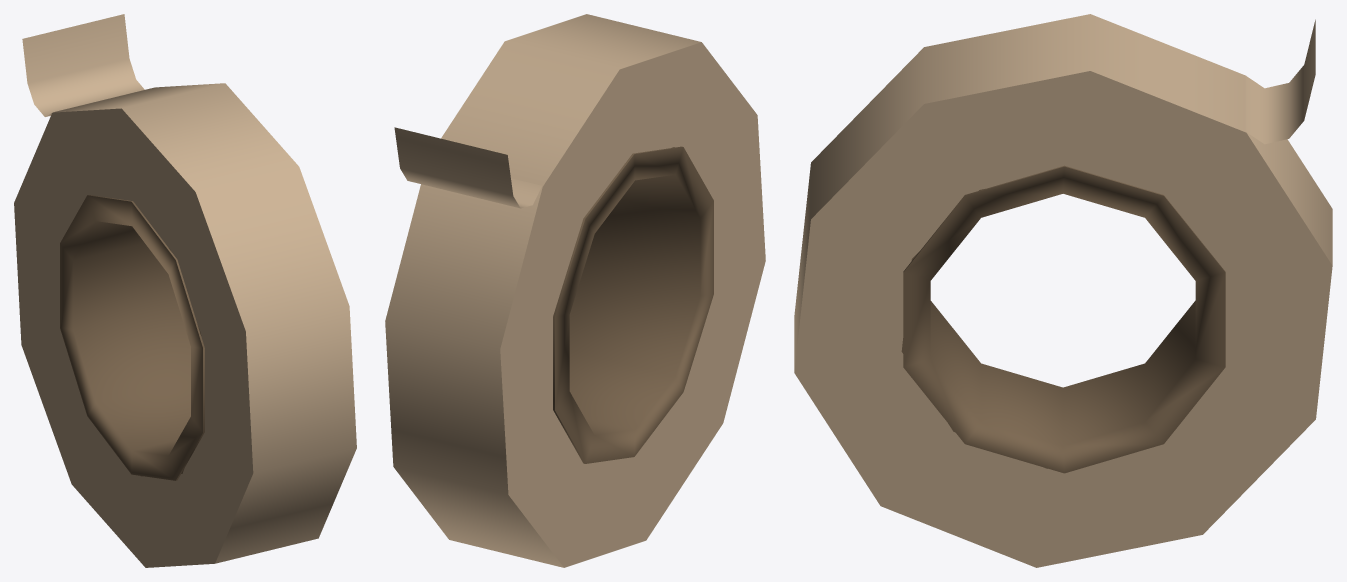
The model's file is Tape 2.fbx.
The picture shows the model from 3 angles, left to right: view 1: azimuth 30°, elevation 25°; view 2: azimuth 150°, elevation 25°; view 3: azimuth 270°, elevation 25°; orthographic projection. The views are drawn at different scales.
Parts seen in each view (by area): view 1: polySurface46, pCylinder17, polySurface47; view 2: polySurface46, pCylinder17, polySurface47; view 3: polySurface46, pCylinder17, polySurface47.
Boxes of the visible parts, box(x1,y1,x2,y2) form: polySurface46: box(14, 83, 356, 567); pCylinder17: box(60, 195, 204, 480); polySurface47: box(22, 14, 153, 116); polySurface46: box(385, 14, 765, 567); pCylinder17: box(553, 146, 713, 463); polySurface47: box(394, 127, 541, 208); polySurface46: box(794, 14, 1332, 567); pCylinder17: box(903, 165, 1225, 473); polySurface47: box(1245, 19, 1315, 144).
Bounding box in the file's own units: 0.3902 × 1.54 × 1.51.
